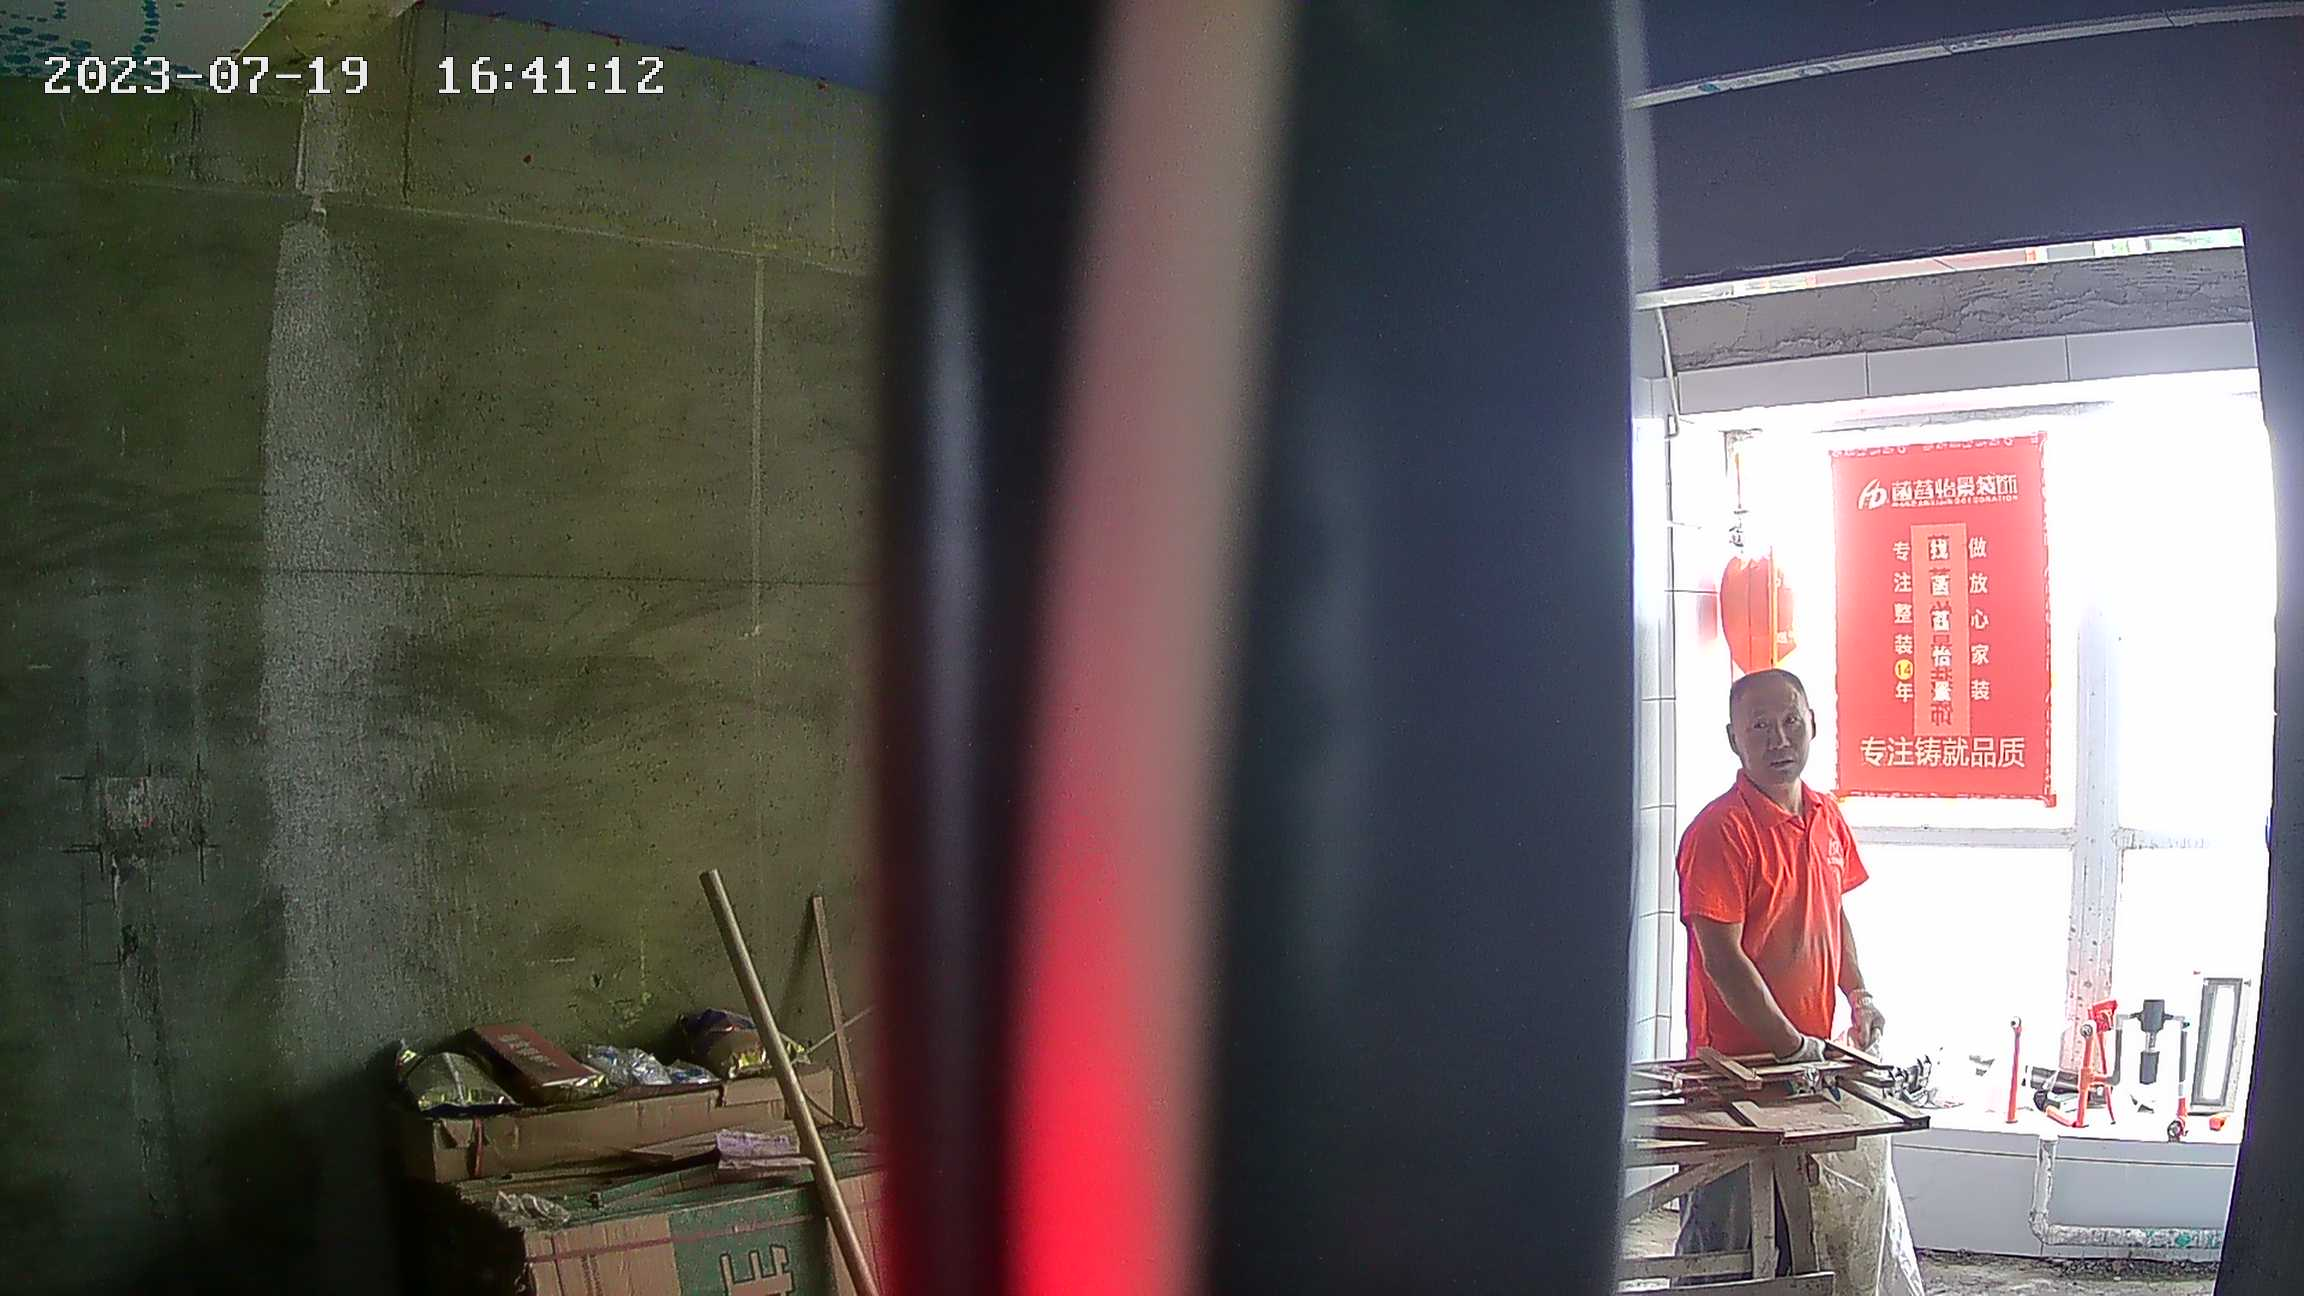people: (1672, 667, 1863, 1267)
window: (1716, 425, 2278, 1127)
